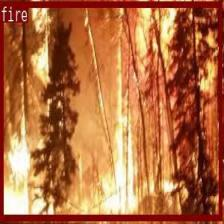fire: (0, 0, 222, 219)
